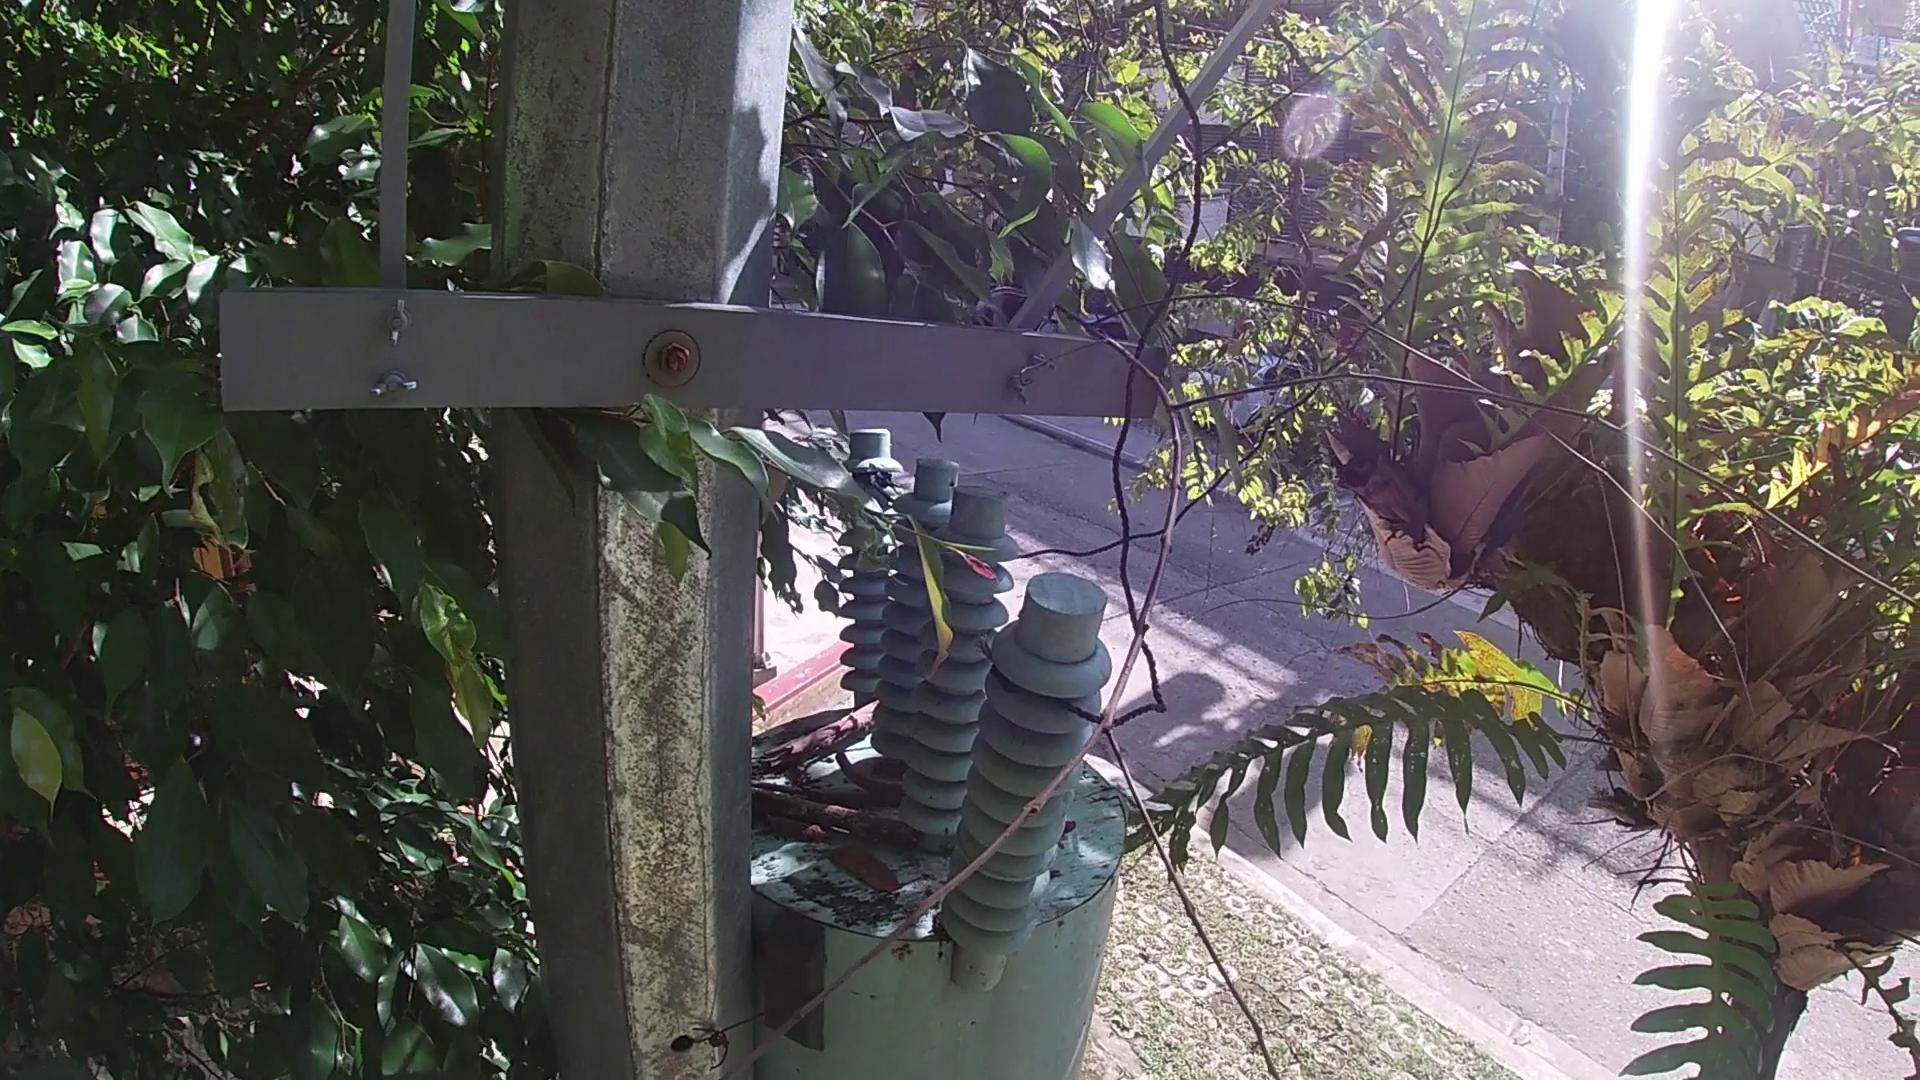leaf: (808, 843, 899, 897), (762, 812, 832, 847)
tree branch: (705, 280, 1920, 1079), (749, 785, 922, 851), (760, 695, 886, 779)
